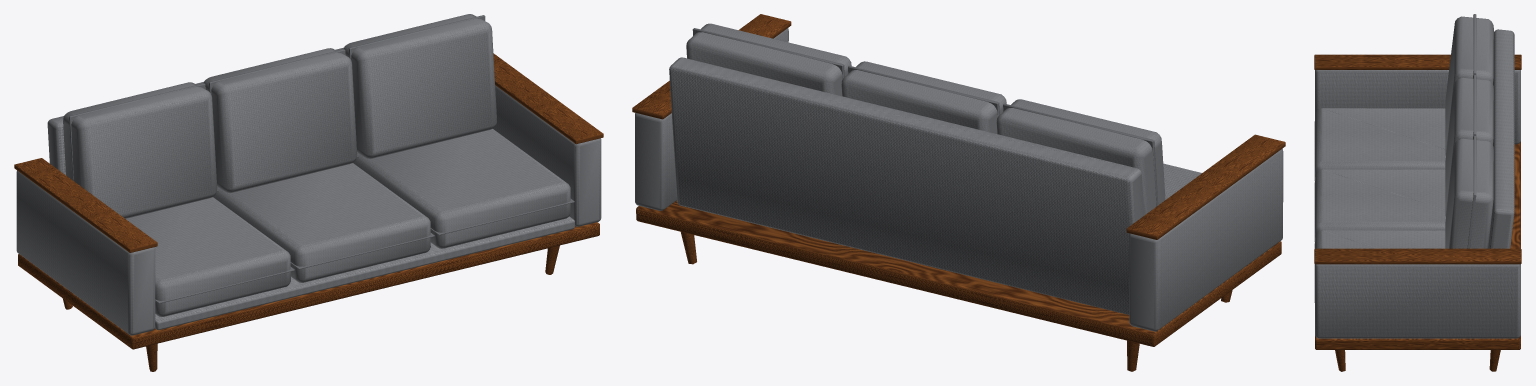
The model's file is living_sofa_3seat.glb.
The picture shows the model from 3 angles, left to right: view 1: azimuth 30°, elevation 25°; view 2: azimuth 150°, elevation 25°; view 3: azimuth 270°, elevation 25°; orthographic projection. The views are drawn at different scales.
Parts seen in each view (by area): view 1: Sirt_Minderi_Orta, Sirt_Minderi_Sag, Sirt_Minderi_Sol, Oturma_Minderi_Sag, Oturma_Minderi_Orta, Oturma_Minderi_Sol, Kol_Sol, Ahsap_Baza_Iskeleti, Kol_Sag, Dosemeli_Alt_Taban, Kol_Ahsap_Serit_Sol, Kol_Ahsap_Serit_Sag (+2 smaller); view 2: Sirt_Govde_Paneli, Ahsap_Baza_Iskeleti, Kol_Sol, Sirt_Minderi_Sol, Sirt_Minderi_Sag, Sirt_Minderi_Orta, Kol_Ahsap_Serit_Sol, Kol_Sag, Kol_Ahsap_Serit_Sag, Oturma_Minderi_Sol, Sirt_Minderi_Dikis_Sol; view 3: Kol_Sag, Oturma_Minderi_Sol, Oturma_Minderi_Orta, Kol_Sol, Sirt_Govde_Paneli, Sirt_Minderi_Sag, Kol_Ahsap_Serit_Sag, Ahsap_Baza_Iskeleti, Sirt_Minderi_Sol, Sirt_Minderi_Orta, Oturma_Minderi_Sag, Kol_Ahsap_Serit_Sol (+5 smaller).
Part boxes in pixels (<box>): Sirt_Minderi_Orta: <box>204,48,356,192</box>; Sirt_Minderi_Sag: <box>343,14,496,158</box>; Sirt_Minderi_Sol: <box>63,82,217,218</box>; Oturma_Minderi_Sag: <box>353,129,570,248</box>; Oturma_Minderi_Orta: <box>213,163,430,282</box>; Oturma_Minderi_Sol: <box>126,197,290,316</box>; Kol_Sol: <box>16,170,155,335</box>; Ahsap_Baza_Iskeleti: <box>18,222,599,349</box>; Kol_Sag: <box>493,85,601,226</box>; Dosemeli_Alt_Taban: <box>155,216,574,330</box>; Kol_Ahsap_Serit_Sol: <box>14,158,157,252</box>; Kol_Ahsap_Serit_Sag: <box>493,53,603,144</box>; Sirt_Govde_Paneli: <box>669,57,1144,314</box>; Ahsap_Baza_Iskeleti: <box>636,200,1281,346</box>; Kol_Sol: <box>1129,148,1283,331</box>; Sirt_Minderi_Sol: <box>996,99,1165,215</box>; Sirt_Minderi_Sag: <box>686,23,851,95</box>; Sirt_Minderi_Orta: <box>841,61,1006,133</box>; Kol_Ahsap_Serit_Sol: <box>1126,134,1285,239</box>; Kol_Sag: <box>635,28,788,210</box>; Kol_Ahsap_Serit_Sag: <box>632,14,791,119</box>; Oturma_Minderi_Sol: <box>1163,163,1201,199</box>; Sirt_Minderi_Dikis_Sol: <box>1003,103,1158,206</box>; Kol_Sag: <box>1315,264,1520,338</box>; Oturma_Minderi_Sol: <box>1315,108,1445,176</box>; Oturma_Minderi_Orta: <box>1315,169,1445,237</box>; Kol_Sol: <box>1315,70,1520,144</box>; Sirt_Govde_Paneli: <box>1488,29,1514,248</box>; Sirt_Minderi_Sag: <box>1445,138,1493,248</box>; Kol_Ahsap_Serit_Sag: <box>1314,248,1521,264</box>; Ahsap_Baza_Iskeleti: <box>1315,141,1520,349</box>; Sirt_Minderi_Sol: <box>1445,16,1493,155</box>; Sirt_Minderi_Orta: <box>1445,77,1493,216</box>; Oturma_Minderi_Sag: <box>1315,230,1445,248</box>; Kol_Ahsap_Serit_Sol: <box>1314,54,1521,69</box>.
Bounding box in the file's own units: 2.08 × 0.8506 × 0.8838.
Materials: 3 (3 with a texture image).
